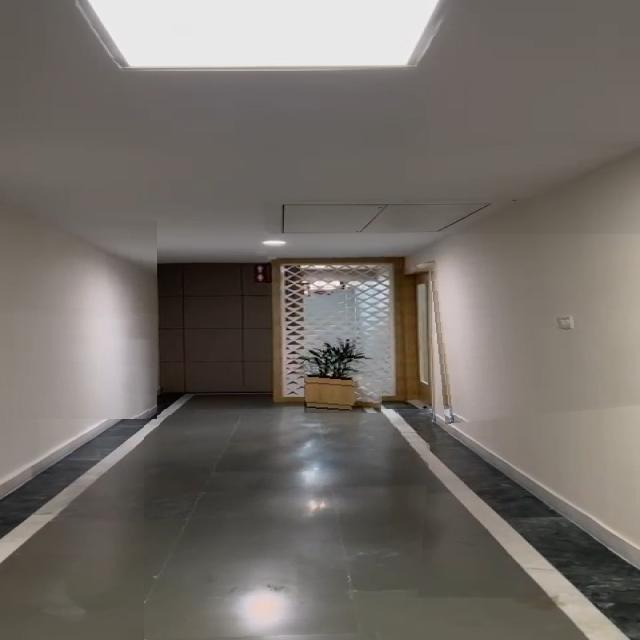floor: (144, 409, 434, 640)
furniture: (304, 337, 386, 413)
wall: (427, 234, 640, 424), (0, 207, 157, 419)
